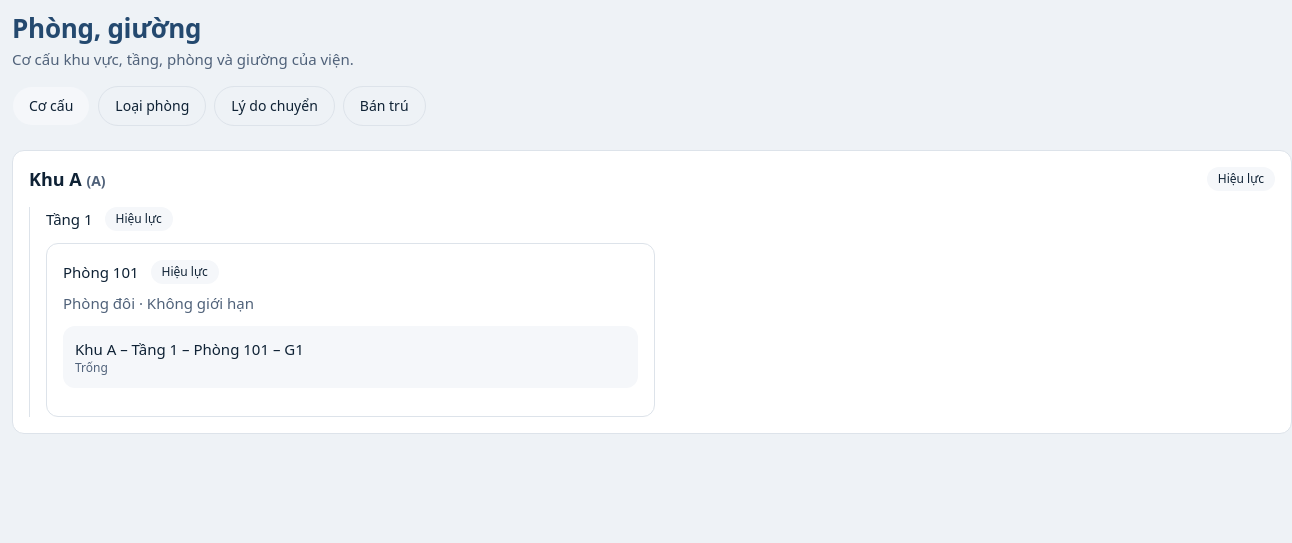
Test: FR_038_configurationViewerCanOpenDayCareTab
This screenshot has width=1292, height=543.
Click the tab "Bán trú". click: click(384, 106)
box: [343,86,426,126]
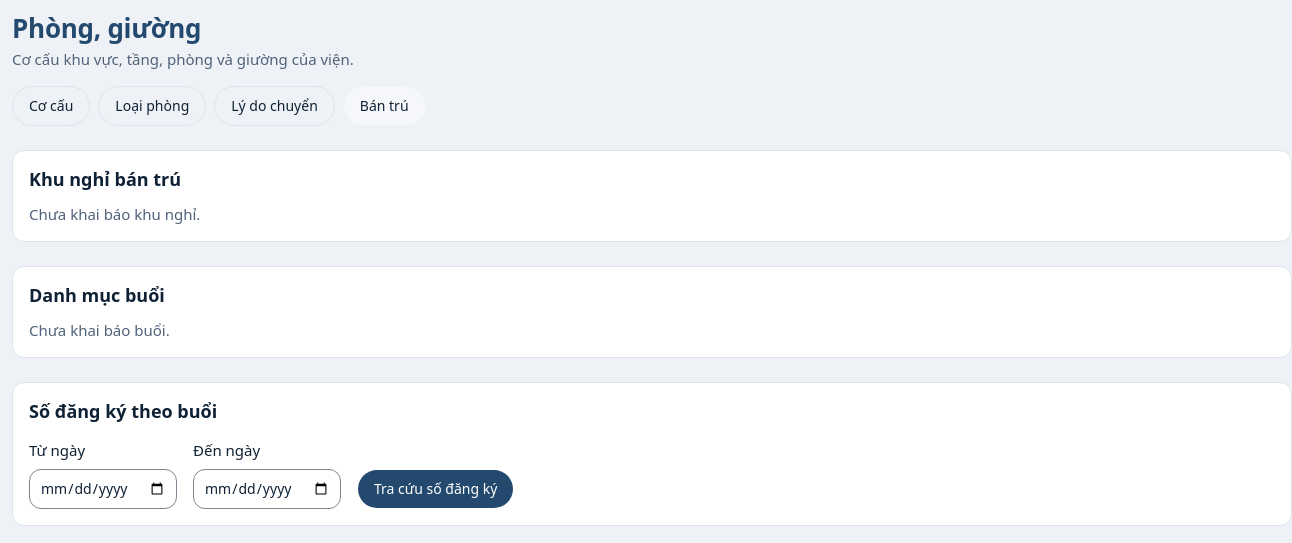
Check: the heading "Khu nghỉ bán trú" is shown, box [29,167,181,191]
